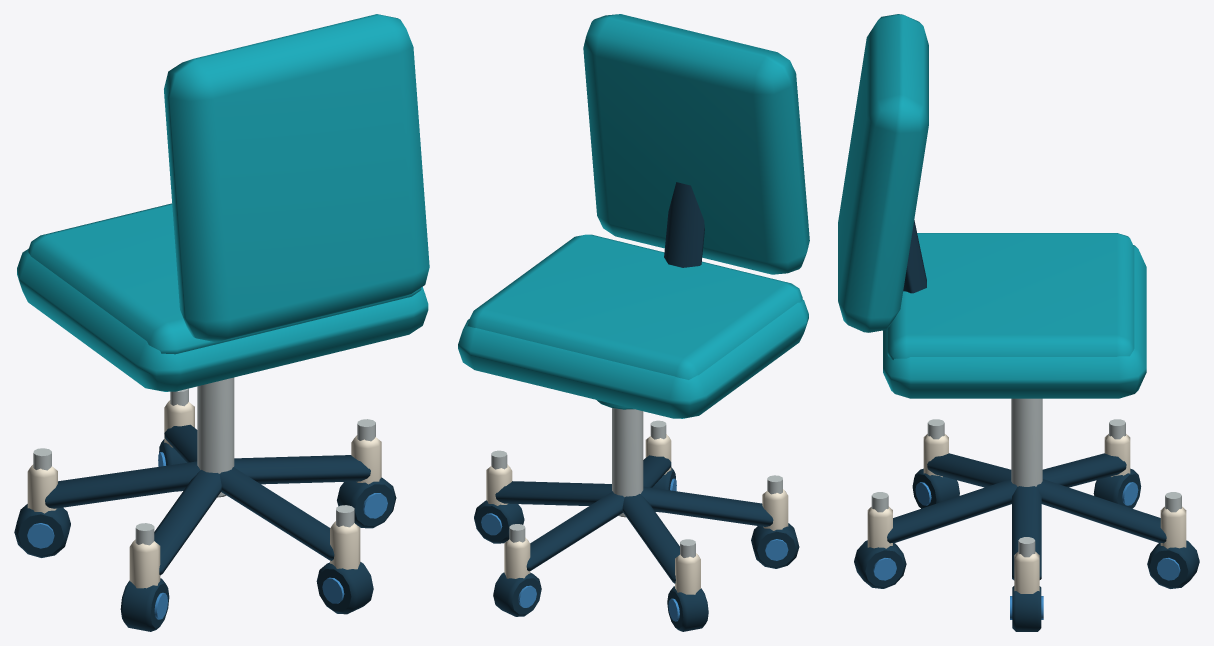
File: staff-chair.glb
3 renders of one model, left to right at view 1: azimuth 30°, elevation 25°; view 2: azimuth 150°, elevation 25°; view 3: azimuth 270°, elevation 25°, orthographic. The views are drawn at different scales.
Parts seen in each view (by area): view 1: REUSED_Staff_Chair__Visual; view 2: REUSED_Staff_Chair__Visual; view 3: REUSED_Staff_Chair__Visual.
Boxes of the visible parts, <box> form: REUSED_Staff_Chair__Visual: <box>14,14,429,631</box>; REUSED_Staff_Chair__Visual: <box>458,14,809,631</box>; REUSED_Staff_Chair__Visual: <box>838,14,1199,631</box>.
Bounding box in the file's own units: 0.5442 × 0.9305 × 0.5983.
1 material, 1 textured.
